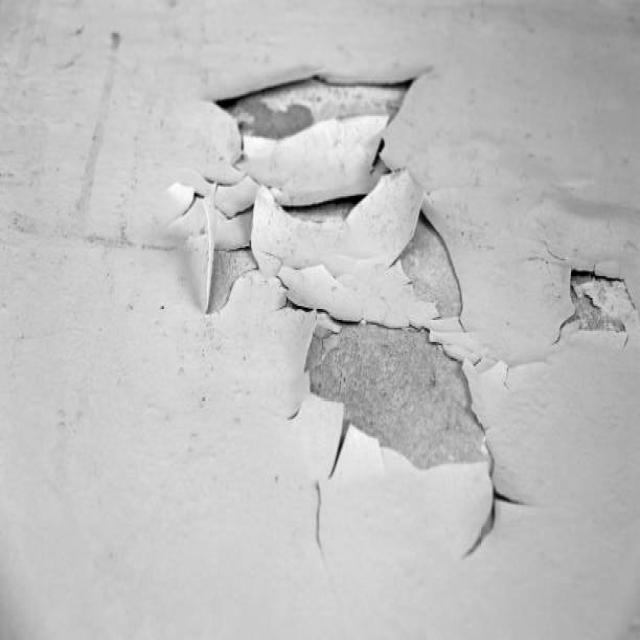peeling paint: (155, 41, 640, 583)
